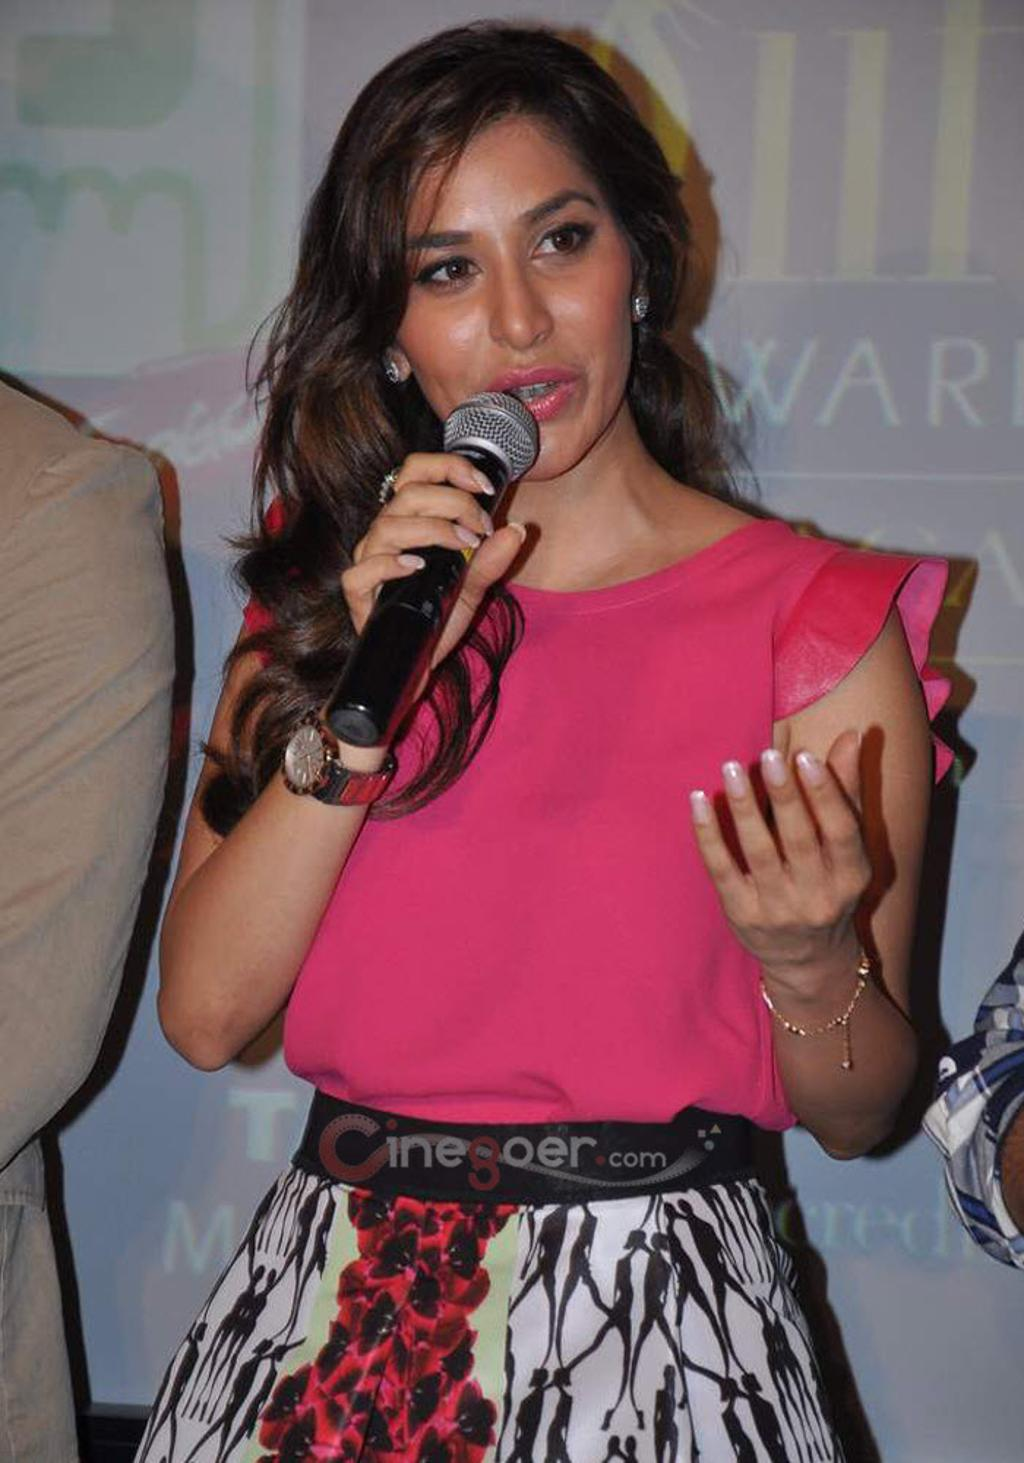face: (390, 121, 633, 476)
